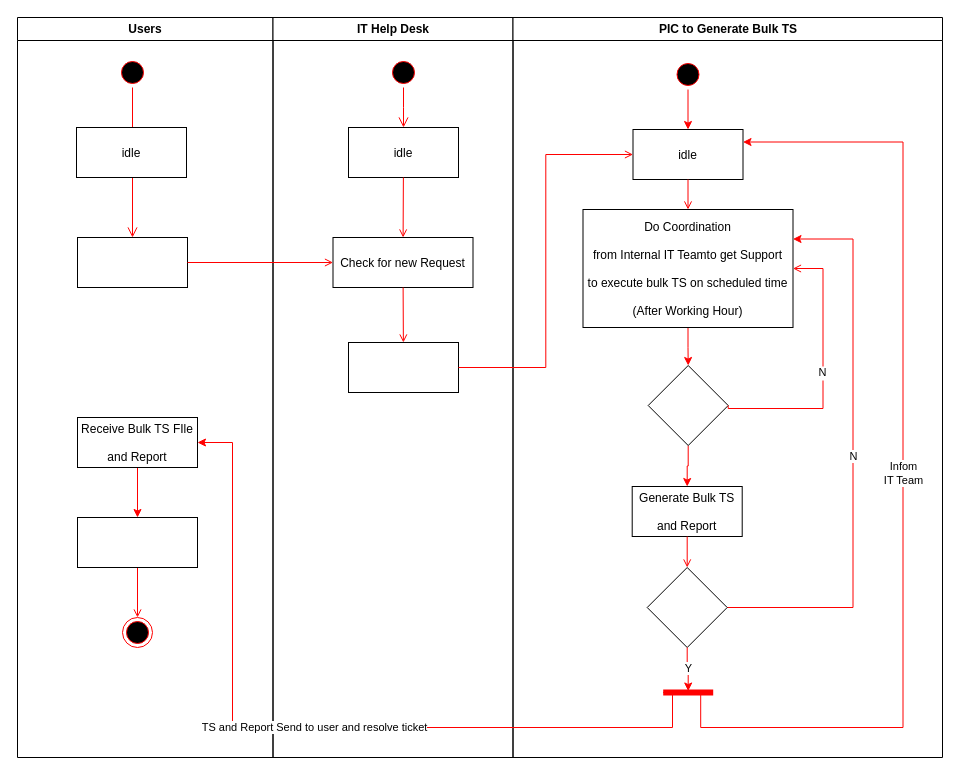
Image size: 960x775. Some labels were removed from this diagram. The shapes that lost their labels are listed below. From the top down, each one's centre as x and y in pixels, then its label:
the point at 132,262: Request to Generate BULK TS
the point at 403,367: Assign to PIC
the point at 687,405: Support Confirmed
the point at 137,542: Do Verification
the point at 686,607: Done
